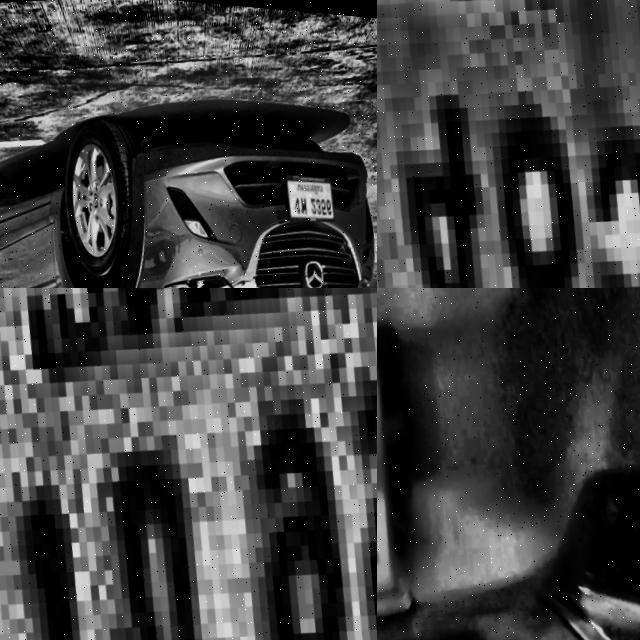license-plate: (0, 288, 377, 640), (377, 0, 640, 288), (282, 160, 341, 218)
